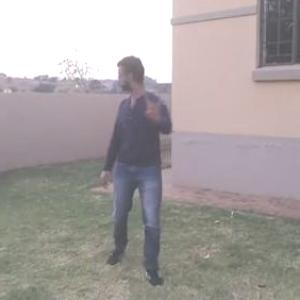takeoff-hand: (141, 88, 166, 124)
